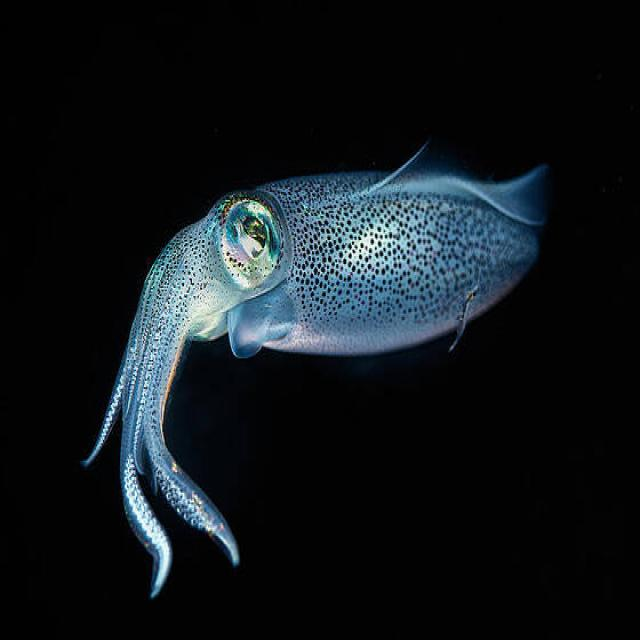SQUID: (61, 107, 612, 608)
